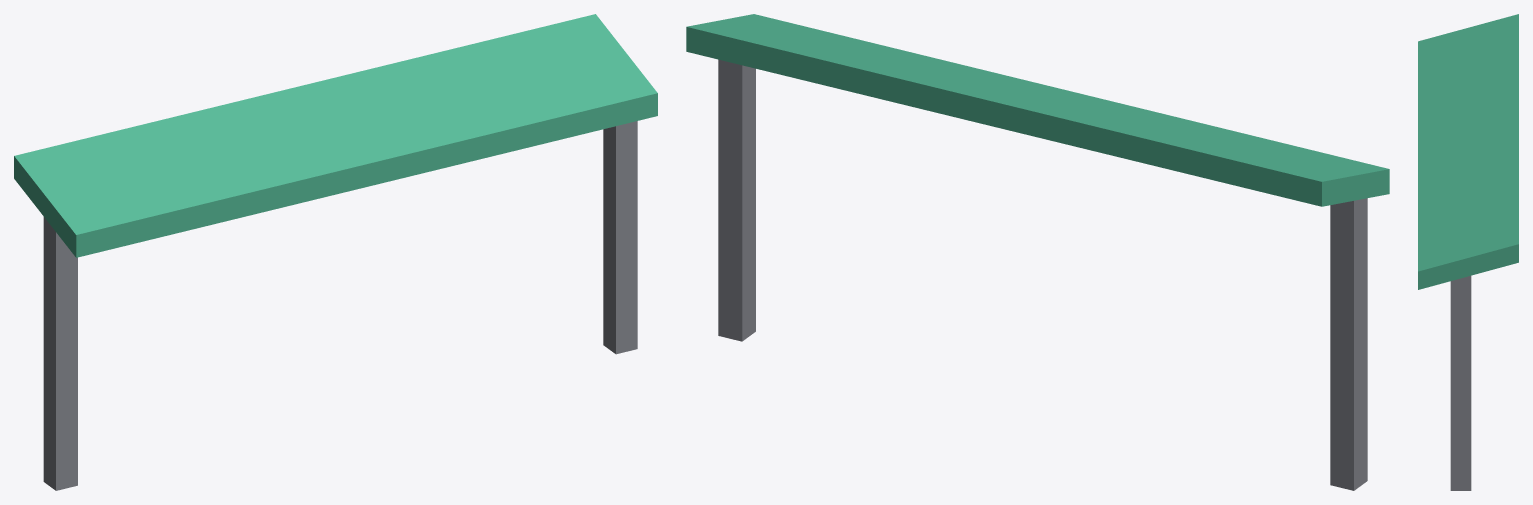
The model's file is detail_awningWide.fbx.
3 views of the same model, side by side, from view 1: azimuth 30°, elevation 25°; view 2: azimuth 150°, elevation 25°; view 3: azimuth 270°, elevation 25° (orthographic). The views are drawn at different scales.
Parts seen in each view (by area): view 1: detail_awningWide; view 2: detail_awningWide; view 3: detail_awningWide.
Part boxes in pixels (box(x1,y1,x2,y2)): detail_awningWide: box(14, 14, 657, 490); detail_awningWide: box(686, 14, 1389, 490); detail_awningWide: box(1418, 14, 1518, 490).
Bounding box in the file's own units: 8 × 4 × 1.48.
